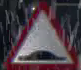Speed Breaker ahead: (4, 3, 77, 69)
